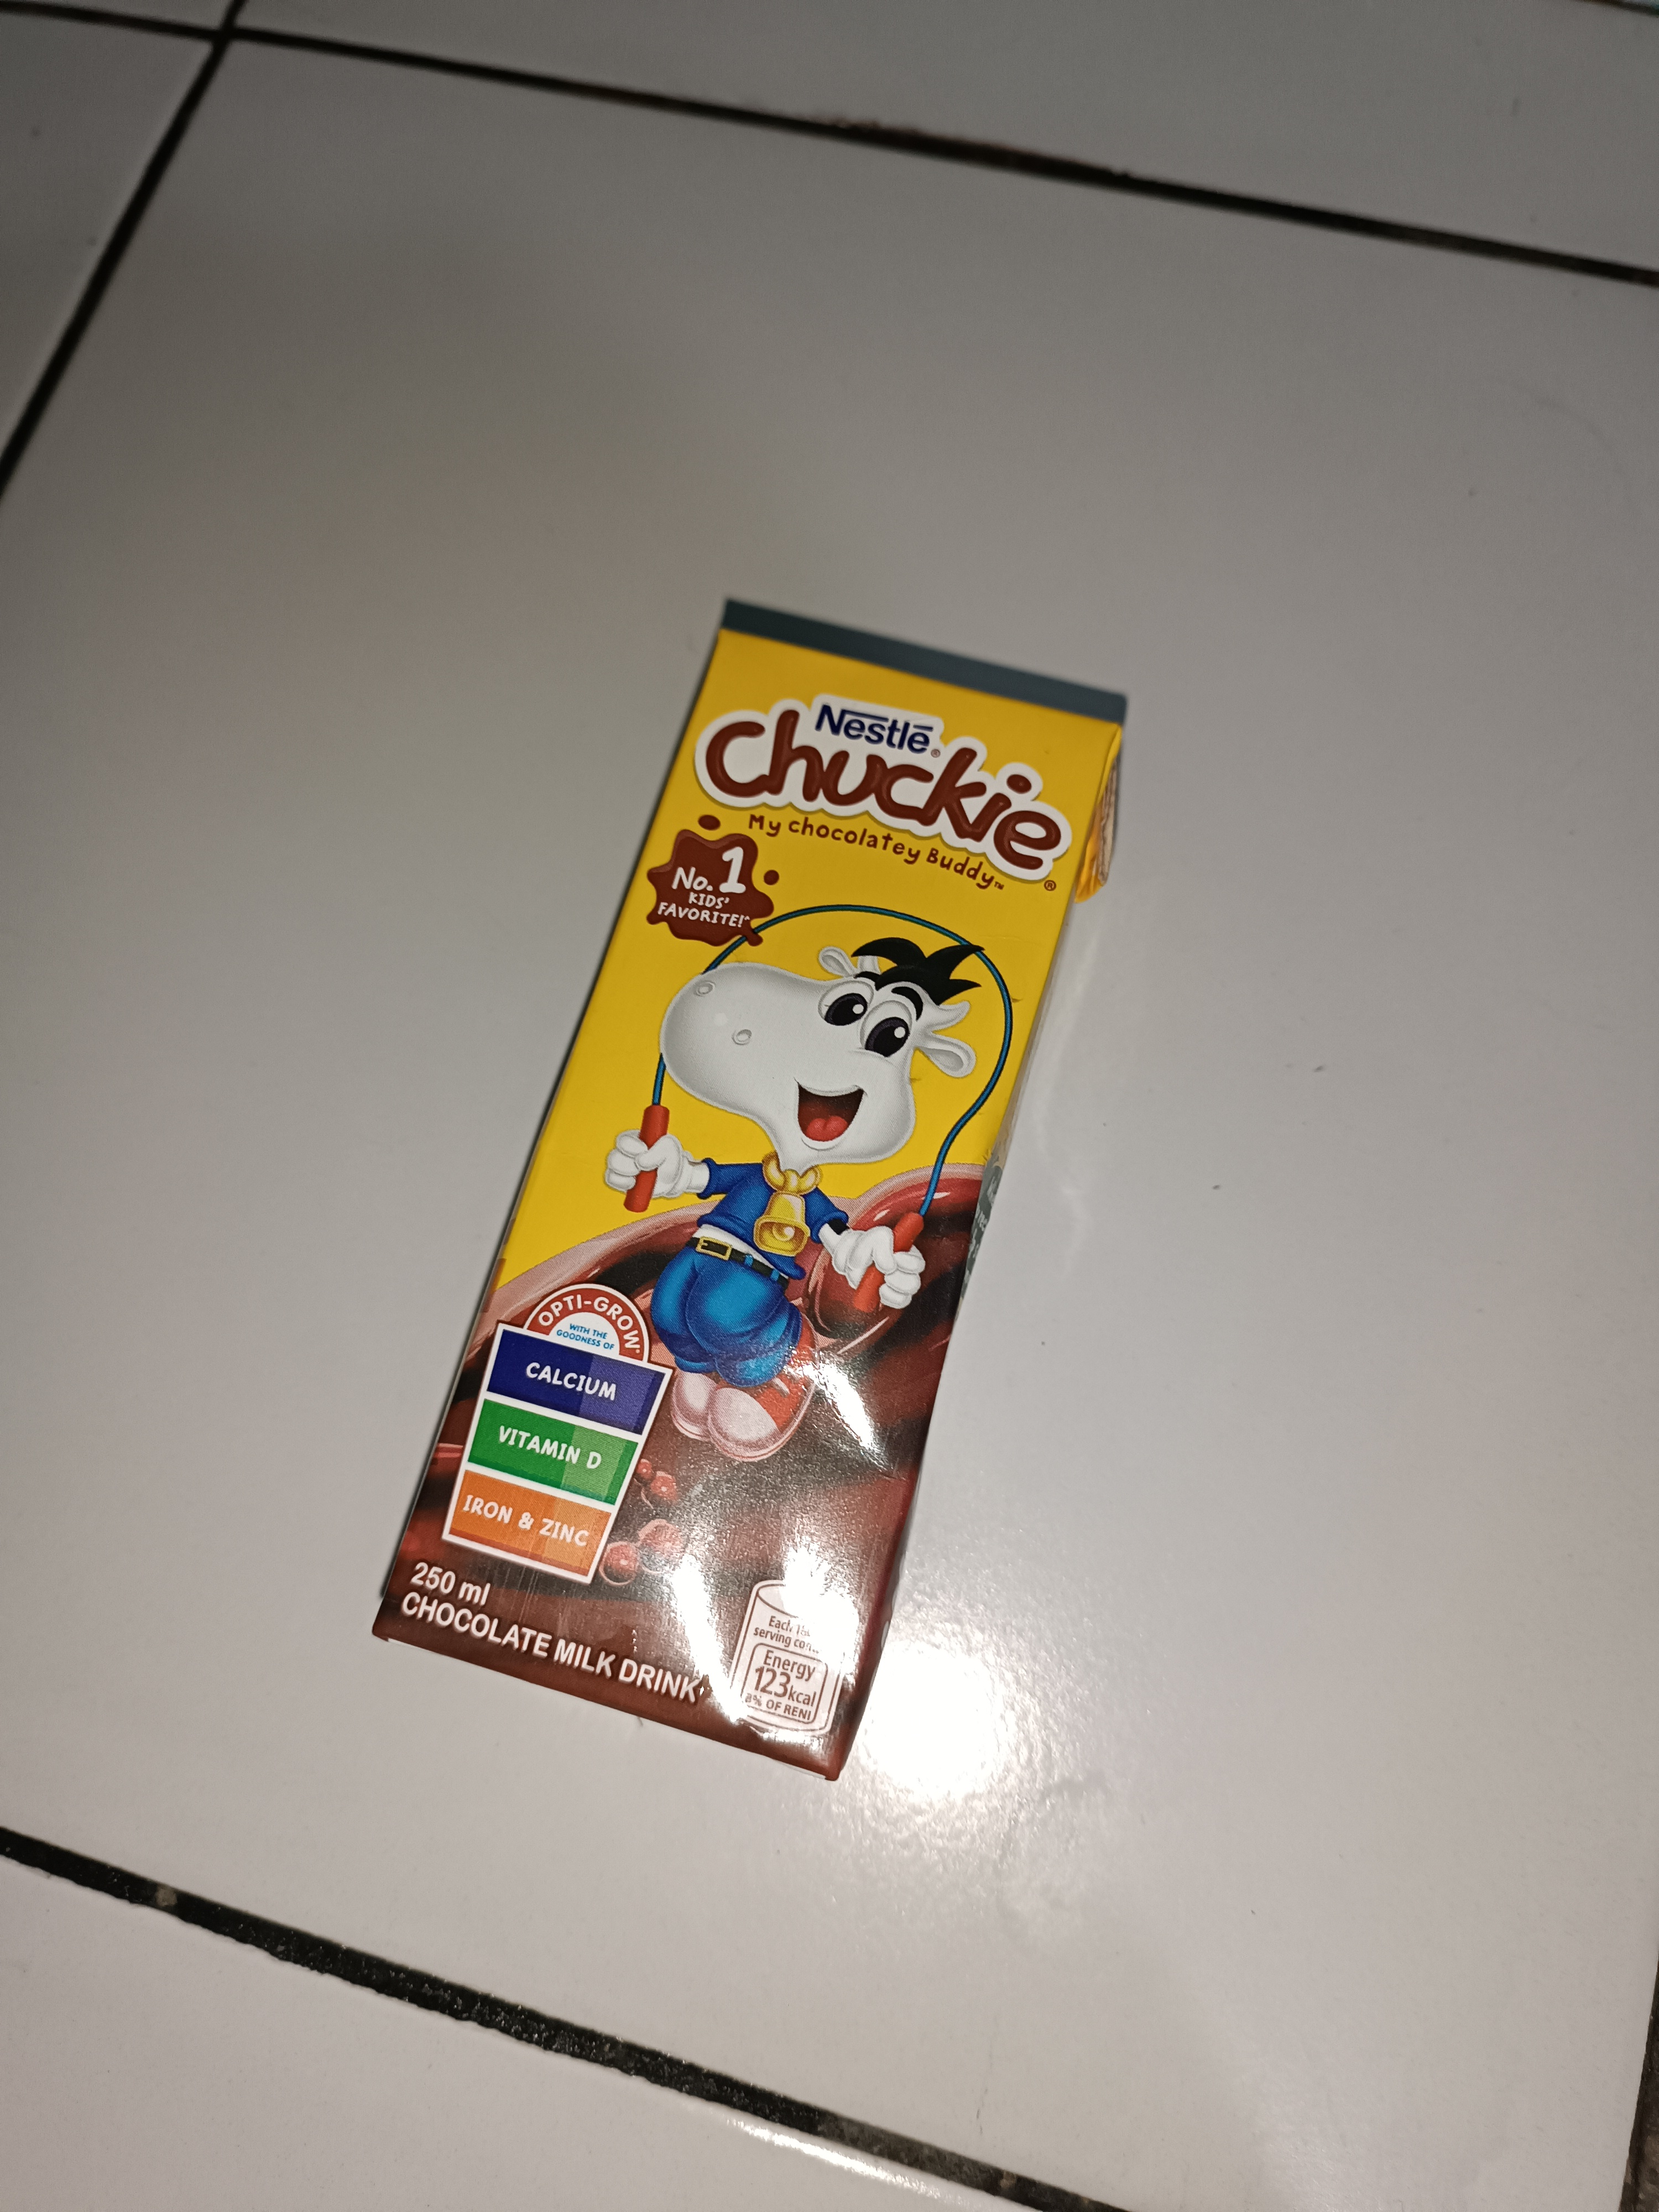Juice Box: (268, 575, 1147, 1843)
